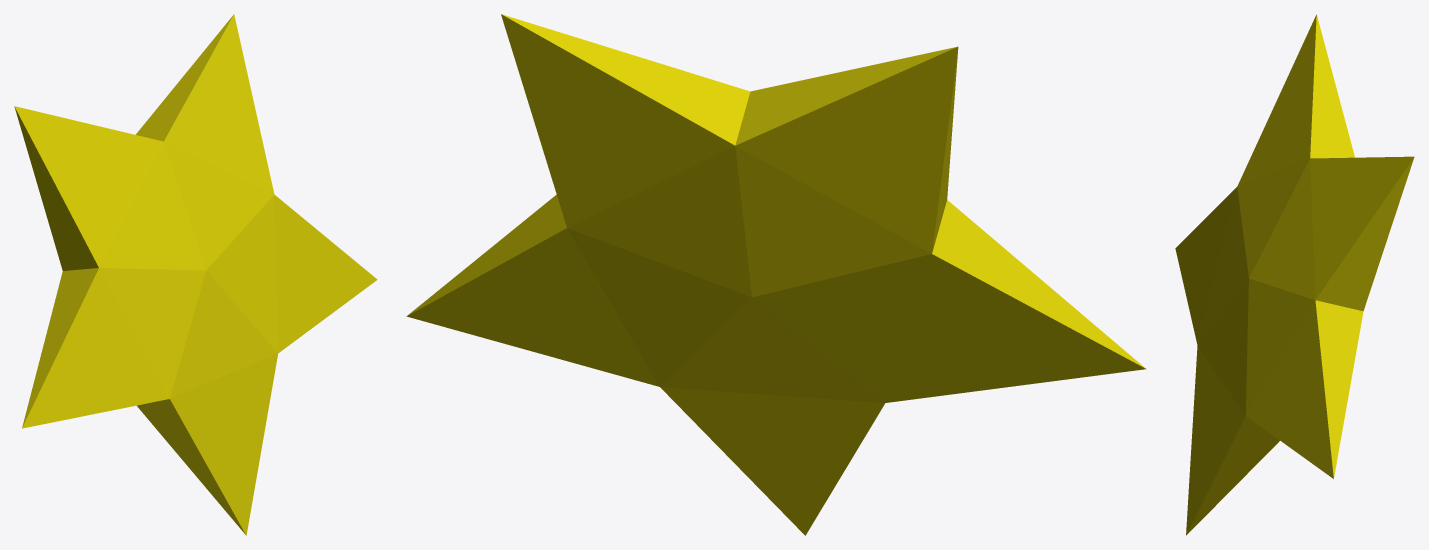
Rendered from star.fbx.
3 renders of one model, left to right at view 1: azimuth 30°, elevation 25°; view 2: azimuth 150°, elevation 25°; view 3: azimuth 270°, elevation 25°, orthographic. The views are drawn at different scales.
Visible parts, largest first — view 1: Star1; view 2: Star1; view 3: Star1.
Part boxes in pixels (x1,y1,x2,y2): Star1: [14, 14, 377, 535]; Star1: [406, 14, 1146, 535]; Star1: [1175, 14, 1414, 535].
Size of the model in its own units: 0.0322 by 0.0301 by 0.015.
